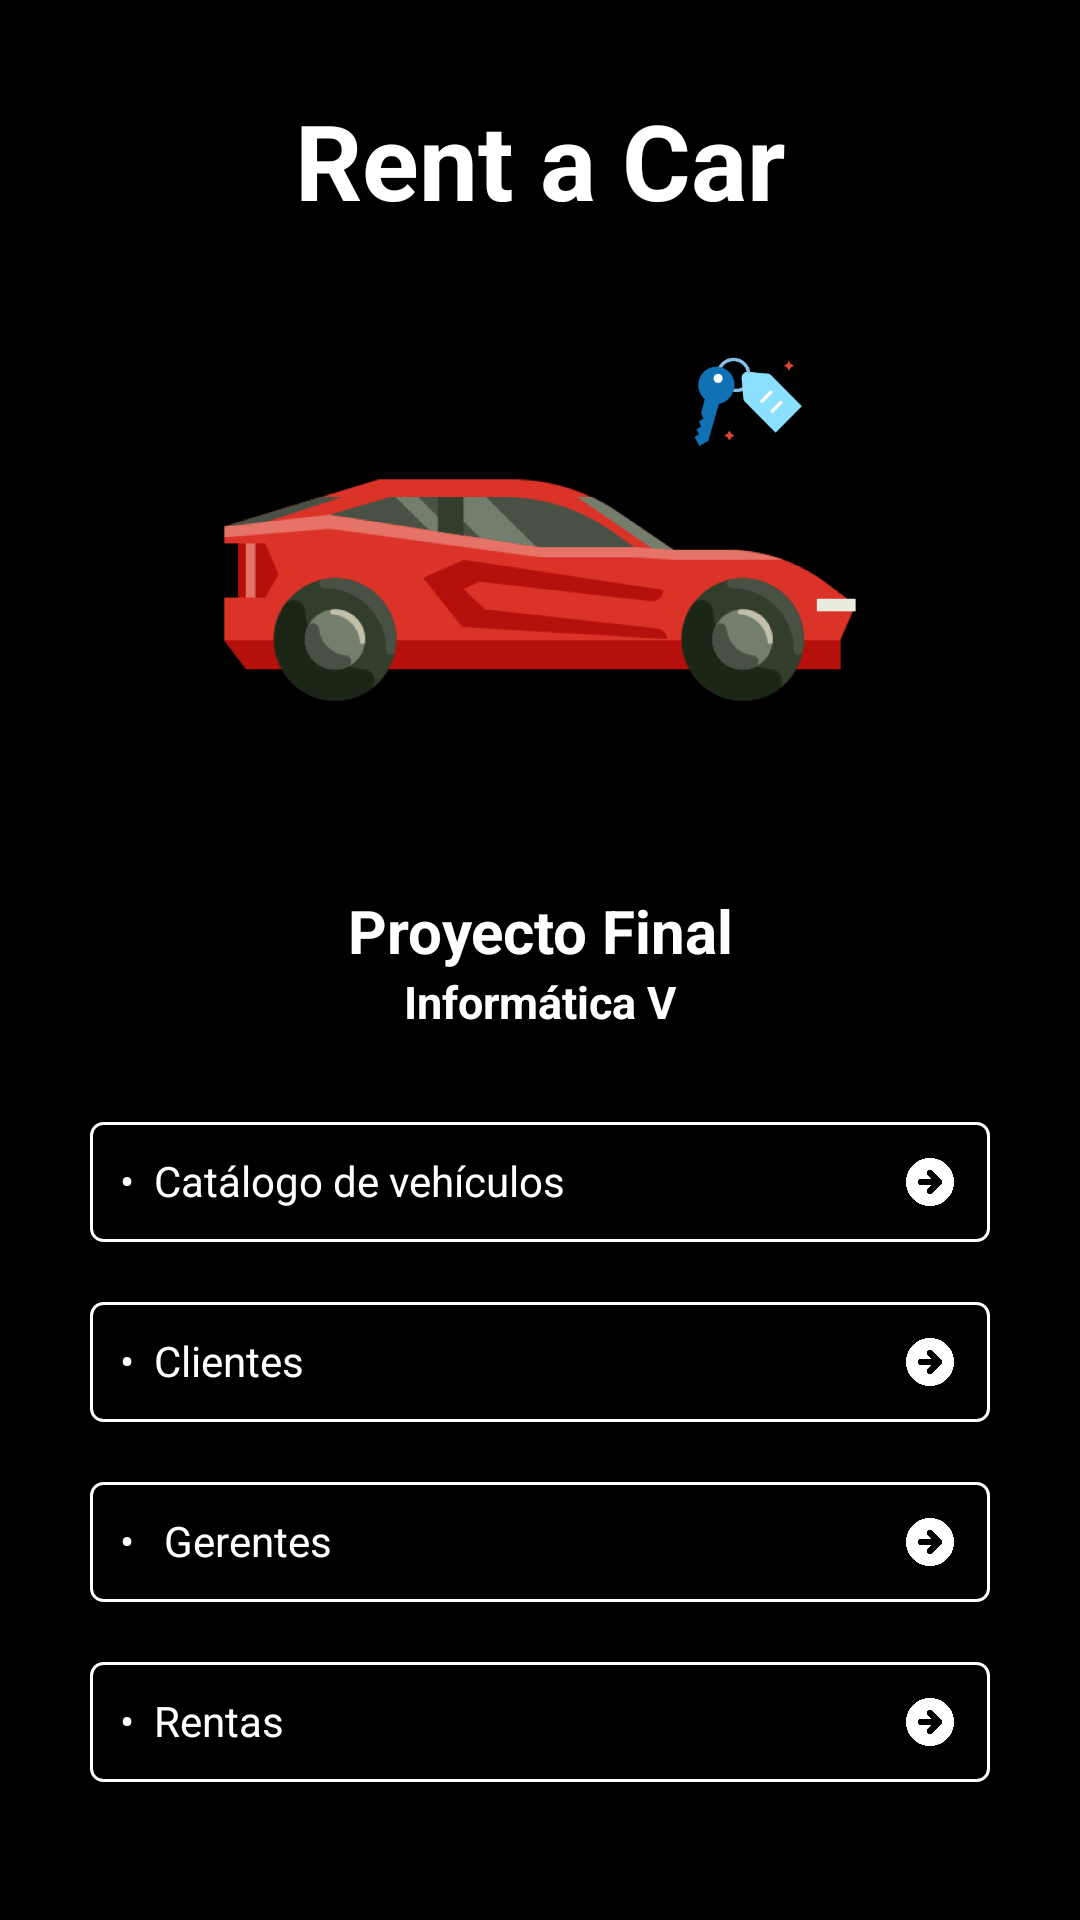

Named icons in this screenshot (1080*1920) and their bounding boxes, {"x1": x1, "y1": y1, "x2": x2, "y2": y2}:
arrow next: {"x1": 906, "y1": 1158, "x2": 954, "y2": 1206}, {"x1": 906, "y1": 1338, "x2": 954, "y2": 1386}, {"x1": 906, "y1": 1518, "x2": 954, "y2": 1566}, {"x1": 906, "y1": 1698, "x2": 954, "y2": 1746}
